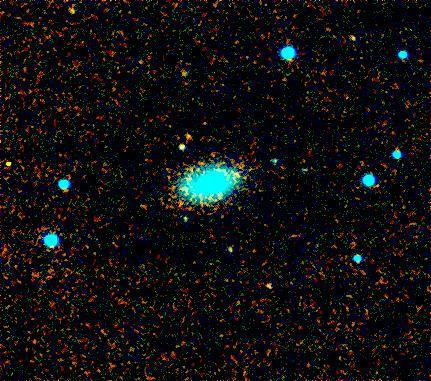star: (0, 144, 26, 174)
